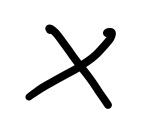mult: (25, 24, 116, 109)
